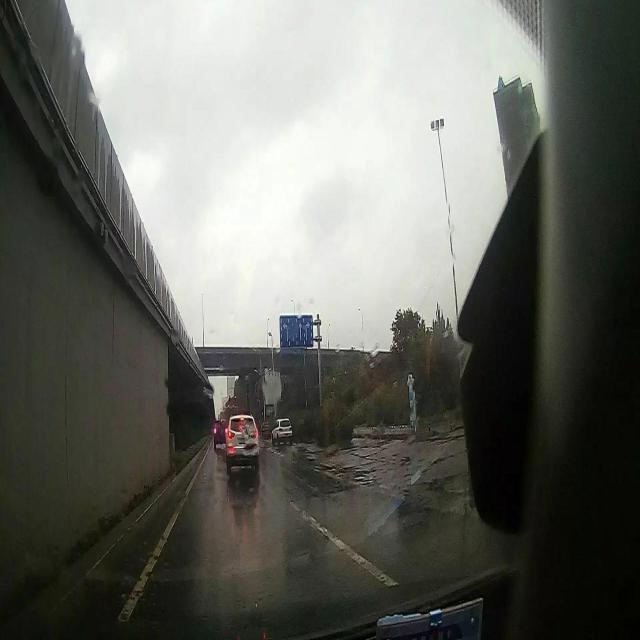car: (225, 414, 259, 468), (270, 418, 294, 444), (214, 417, 227, 448)
